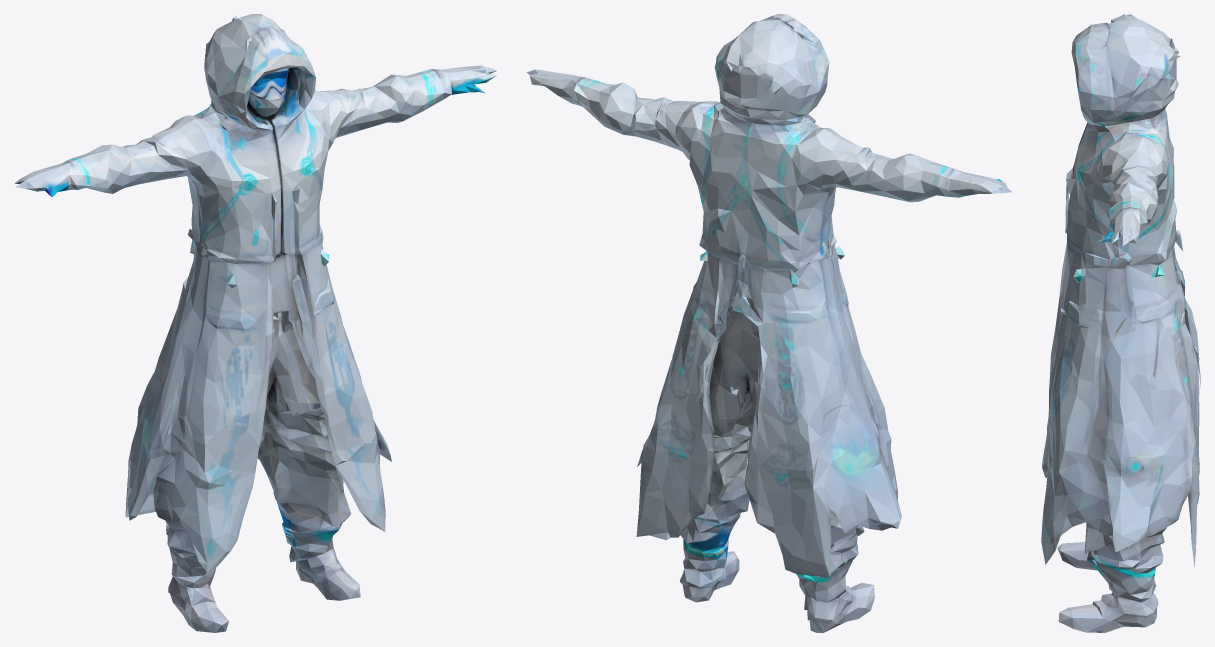
The model's file is cryomancer_full_body_0403211449_texture.fbx.
The picture shows the model from 3 angles, left to right: view 1: azimuth 30°, elevation 25°; view 2: azimuth 150°, elevation 25°; view 3: azimuth 270°, elevation 25°; orthographic projection. The views are drawn at different scales.
Parts seen in each view (by area): view 1: temp; view 2: temp; view 3: temp.
Boxes of the visible parts, x1,y1,x2,y2 form: temp: (14,14,497,632); temp: (526,14,1012,632); temp: (1041,14,1200,632).
Size of the model in its own units: 171 by 197 by 49.63.
Materials: 1 (1 with a texture image).
